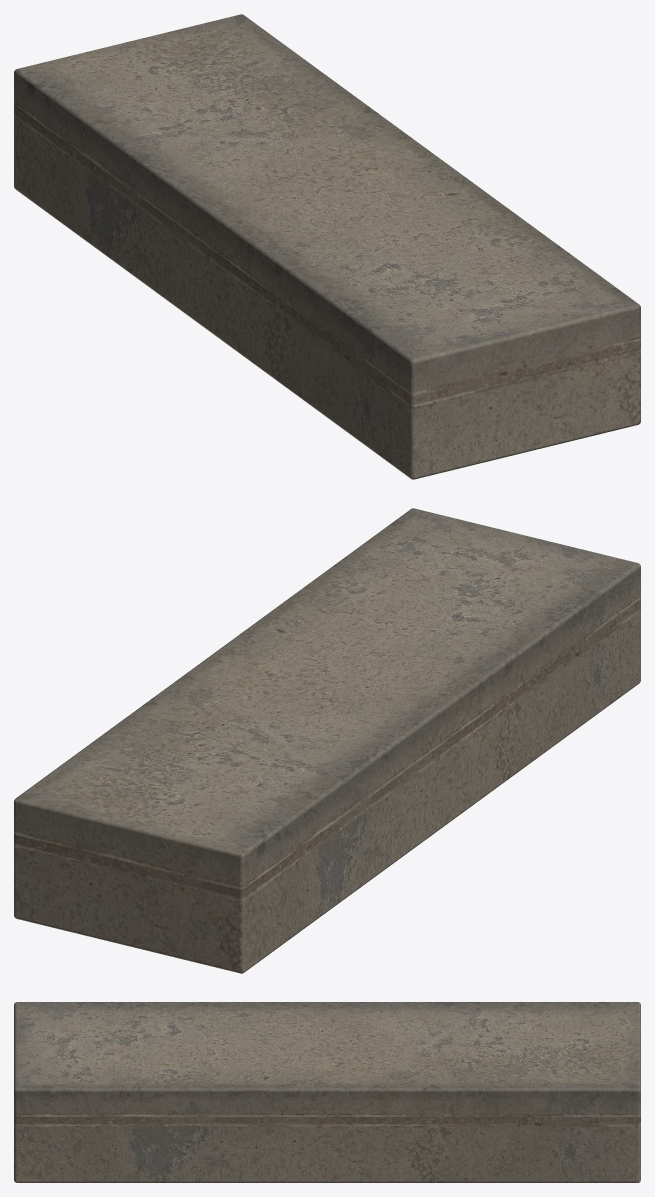
Rendered from worn_concrete_block-opt.glb.
The picture shows the model from 3 angles, top to bottom: view 1: azimuth 30°, elevation 25°; view 2: azimuth 150°, elevation 25°; view 3: azimuth 270°, elevation 25°; orthographic projection. The views are drawn at different scales.
Visible parts, largest first — view 1: BRALUNIT_CONCRETE_BLOCK_BRALUNIT_CONCRETE_BLOCK_0; view 2: BRALUNIT_CONCRETE_BLOCK_BRALUNIT_CONCRETE_BLOCK_0; view 3: BRALUNIT_CONCRETE_BLOCK_BRALUNIT_CONCRETE_BLOCK_0.
Part boxes in pixels (<box>): BRALUNIT_CONCRETE_BLOCK_BRALUNIT_CONCRETE_BLOCK_0: <box>14,14,640,479</box>; BRALUNIT_CONCRETE_BLOCK_BRALUNIT_CONCRETE_BLOCK_0: <box>14,508,640,973</box>; BRALUNIT_CONCRETE_BLOCK_BRALUNIT_CONCRETE_BLOCK_0: <box>14,1002,640,1182</box>.
Size of the model in its own units: 2 by 1 by 6.
1 material, 1 textured.
